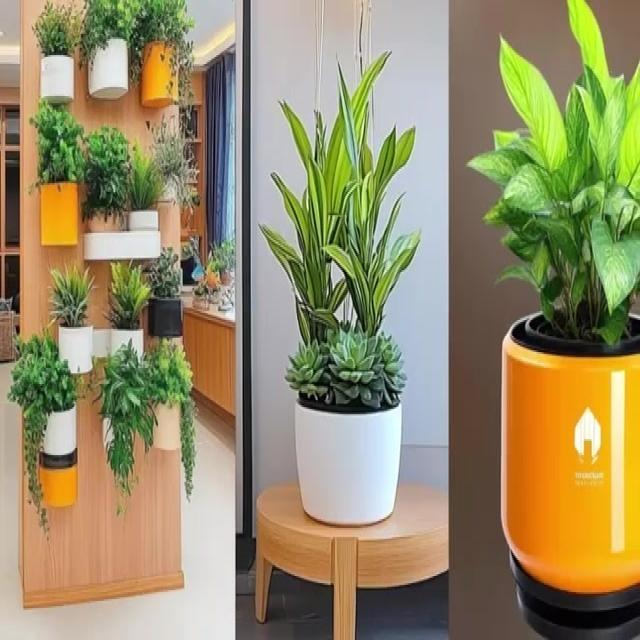obstacle: (254, 478, 448, 638)
